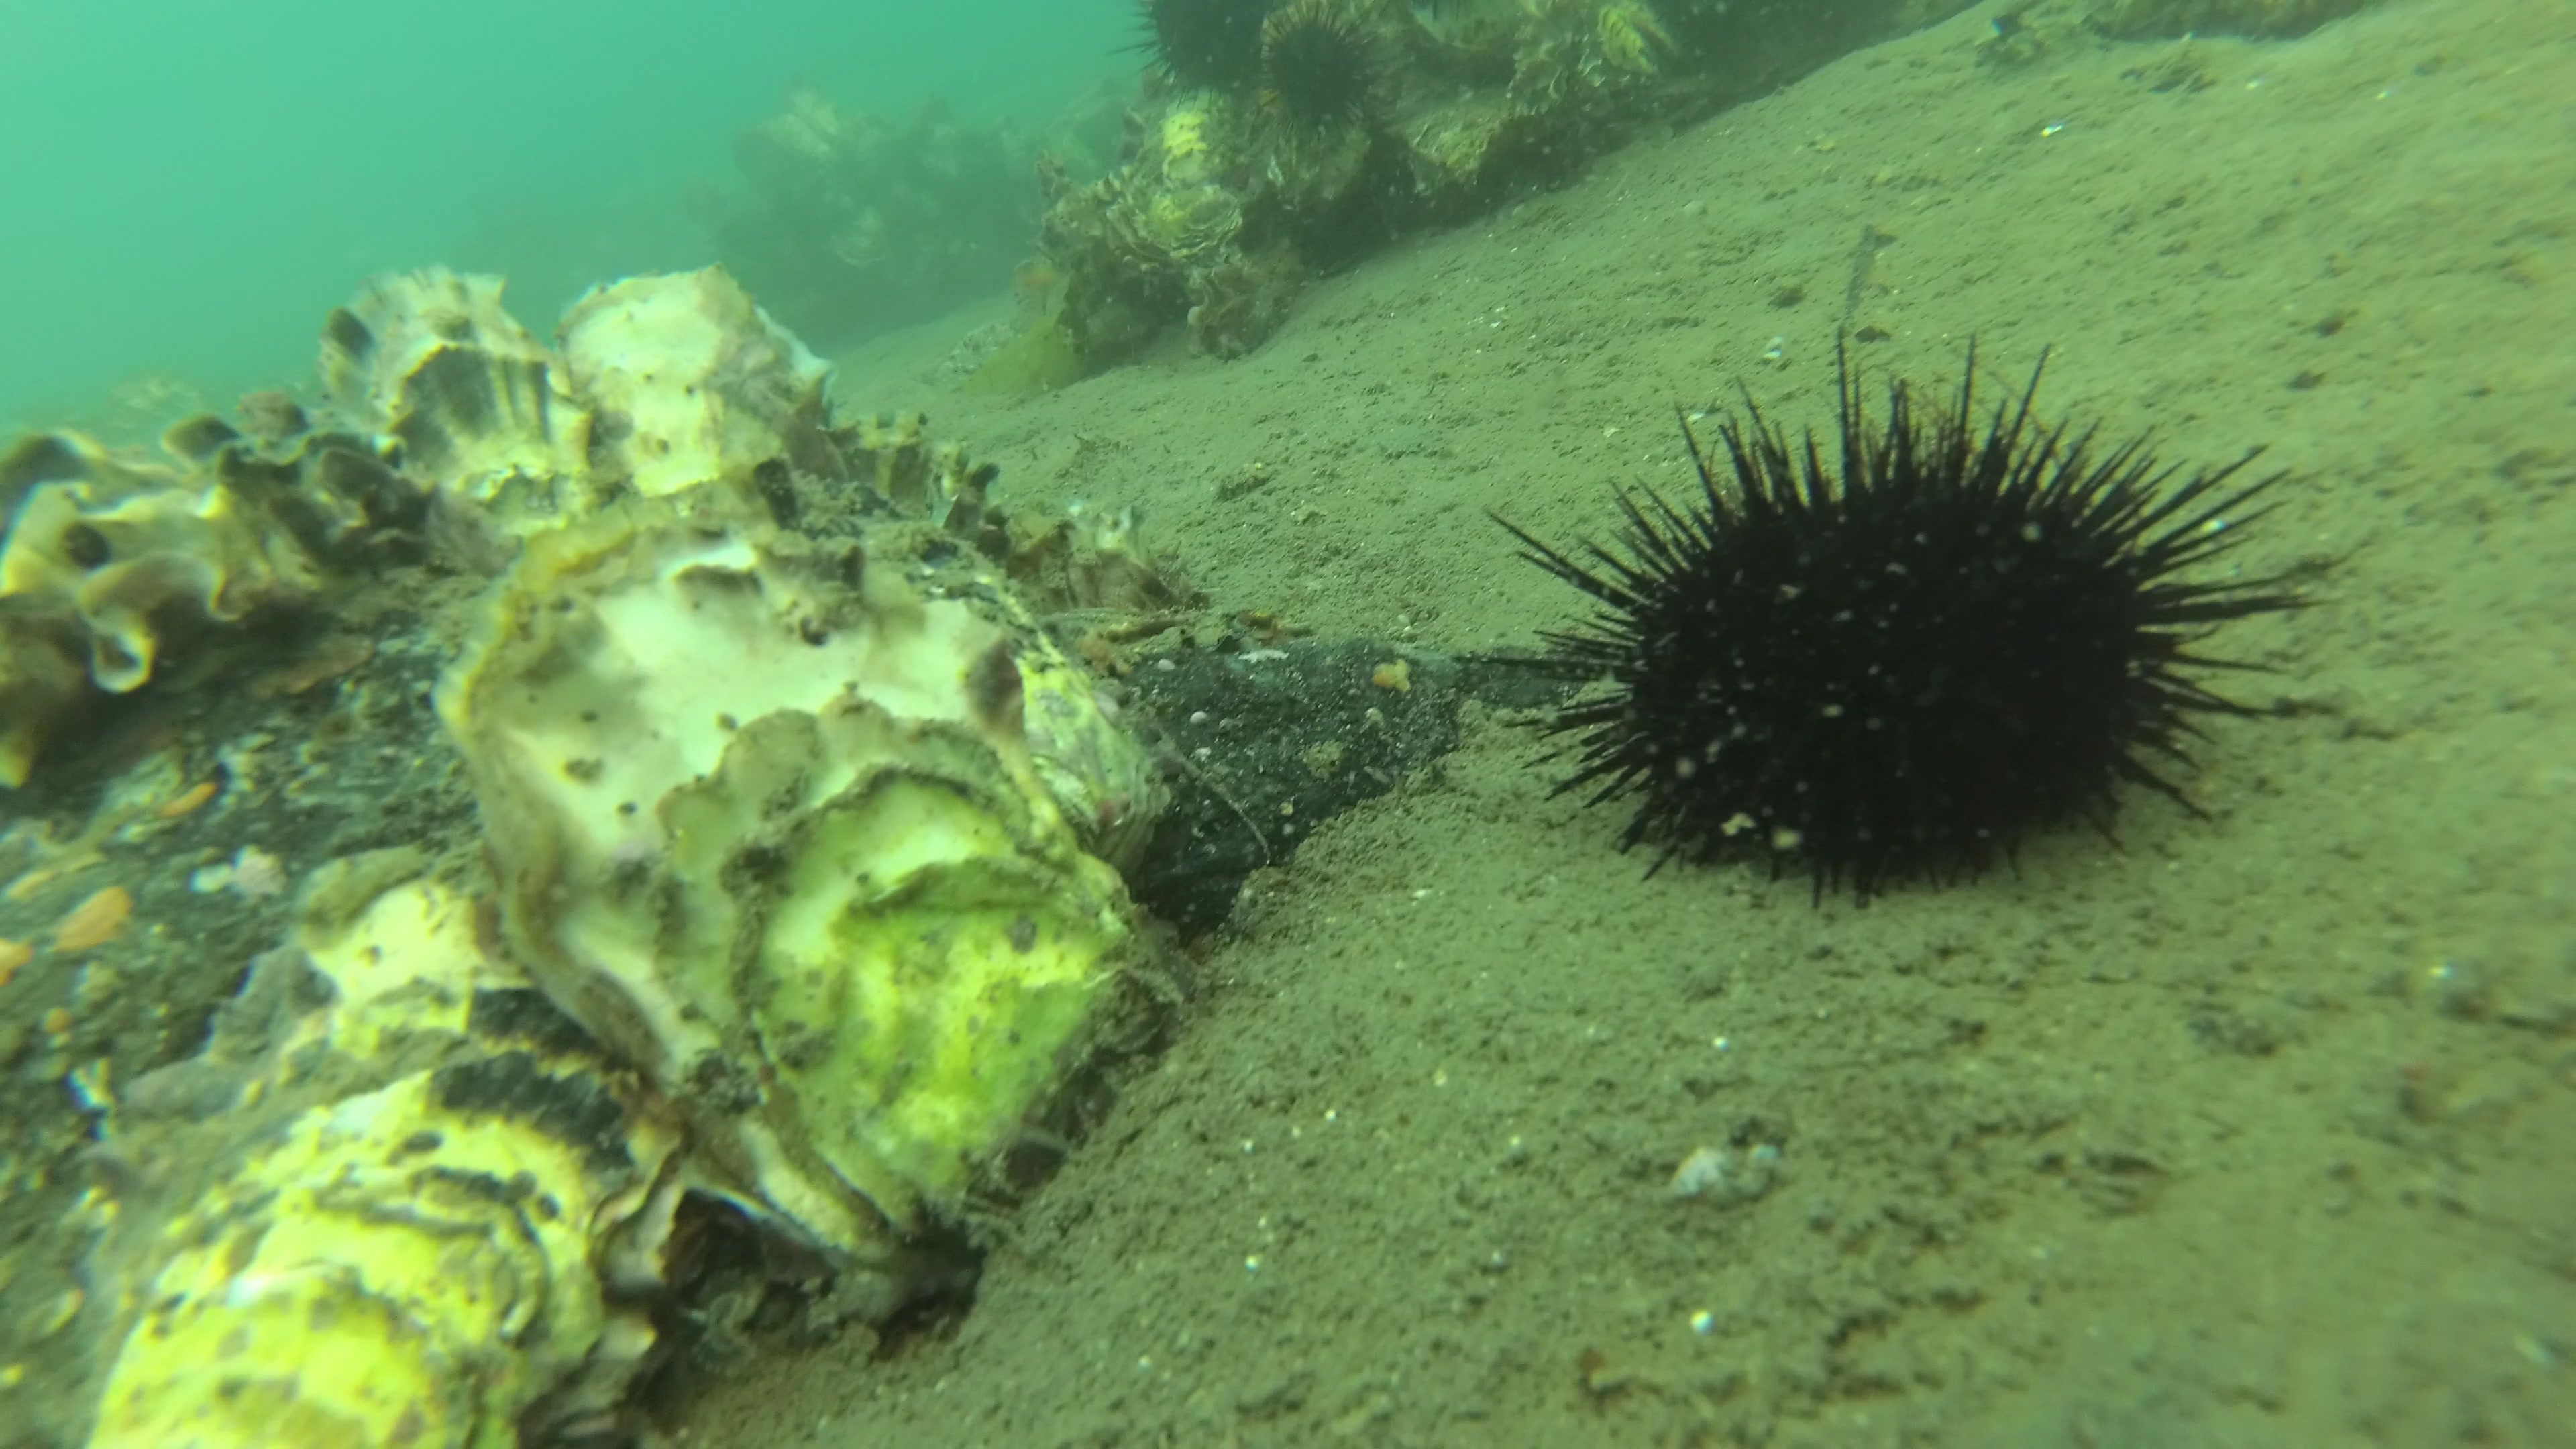echinus: (1451, 338, 2348, 916), (1258, 0, 1391, 145), (1102, 0, 1263, 117)
